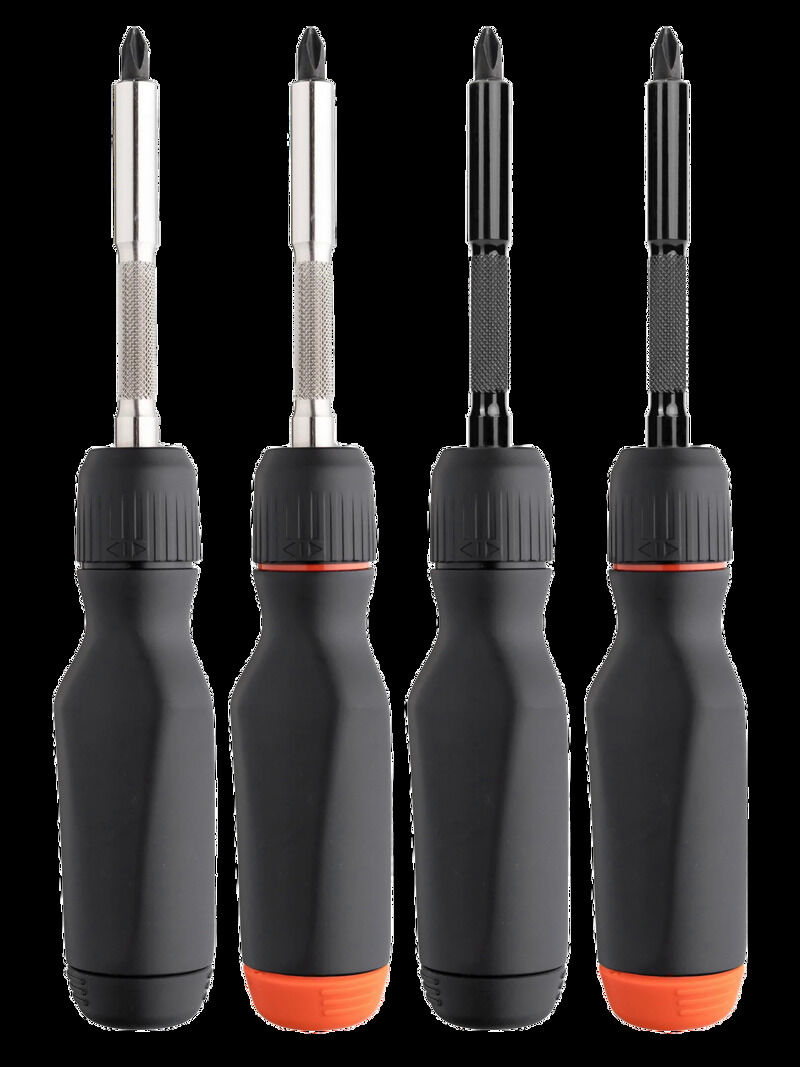screwdriver: (47, 21, 222, 1040), (225, 18, 395, 1040), (583, 24, 751, 1040), (405, 24, 570, 1035)
